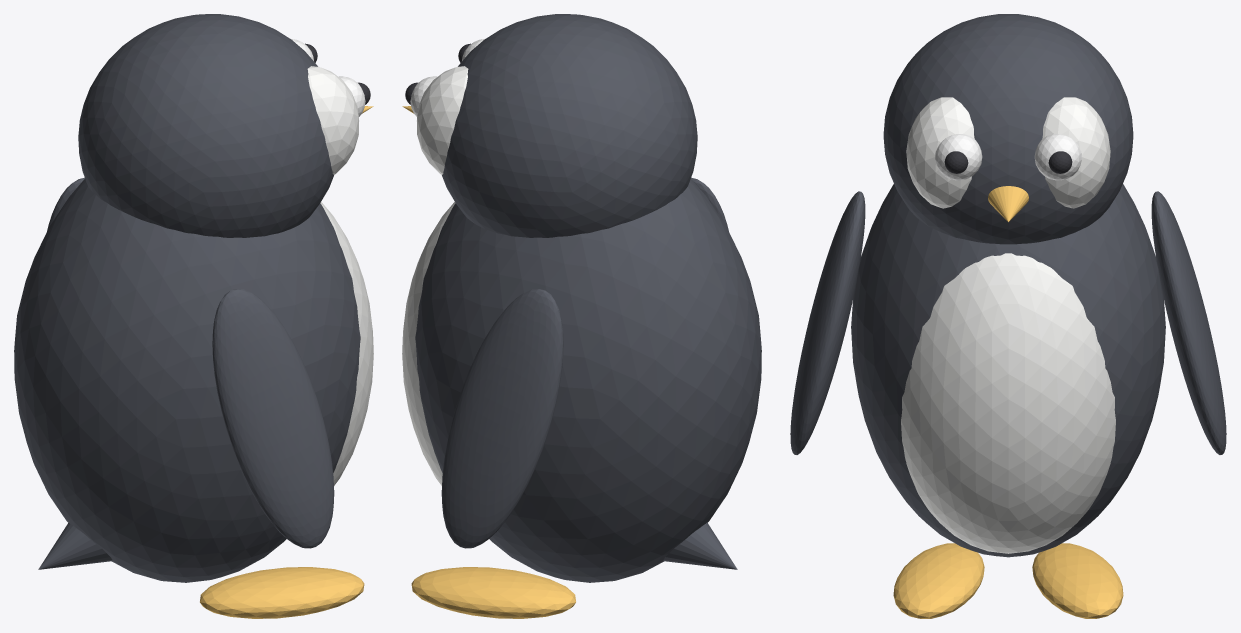
File: penguin.glb
3 views of the same model, side by side, from view 1: azimuth 30°, elevation 25°; view 2: azimuth 150°, elevation 25°; view 3: azimuth 270°, elevation 25° (orthographic). The views are drawn at different scales.
Visible parts, largest first — view 1: Body, Head, Flipper_R, Foot_R, Belly, Face_R, Tail; view 2: Body, Head, Flipper_L, Foot_L, Belly, Face_L, Tail; view 3: Belly, Body, Head, Flipper_R, Flipper_L, Foot_R, Foot_L, Face_R, Face_L, Eye_R, Eye_L, Beak.
Boxes of the visible parts, x1=… form: Body: x1=14, y1=179, x2=360, y2=582; Head: x1=78, y1=14, x2=333, y2=237; Flipper_R: x1=212, y1=289, x2=334, y2=548; Foot_R: x1=200, y1=567, x2=364, y2=618; Belly: x1=320, y1=202, x2=373, y2=485; Face_R: x1=307, y1=66, x2=358, y2=174; Tail: x1=38, y1=522, x2=112, y2=569; Body: x1=415, y1=179, x2=761, y2=582; Head: x1=442, y1=14, x2=697, y2=237; Flipper_L: x1=441, y1=289, x2=563, y2=548; Foot_L: x1=411, y1=567, x2=575, y2=618; Belly: x1=402, y1=202, x2=455, y2=485; Face_L: x1=417, y1=66, x2=468, y2=174; Tail: x1=663, y1=522, x2=737, y2=569; Belly: x1=901, y1=253, x2=1115, y2=553; Body: x1=851, y1=184, x2=1165, y2=557; Head: x1=883, y1=14, x2=1133, y2=244; Flipper_R: x1=790, y1=191, x2=865, y2=454; Flipper_L: x1=1151, y1=191, x2=1226, y2=454; Foot_R: x1=893, y1=543, x2=984, y2=618; Foot_L: x1=1032, y1=543, x2=1123, y2=618; Face_R: x1=906, y1=97, x2=974, y2=208; Face_L: x1=1042, y1=97, x2=1110, y2=208; Eye_R: x1=935, y1=134, x2=982, y2=180; Eye_L: x1=1034, y1=134, x2=1081, y2=180; Beak: x1=988, y1=186, x2=1028, y2=221.
Size of the model in its own units: 0.415 by 0.66 by 0.4709.
